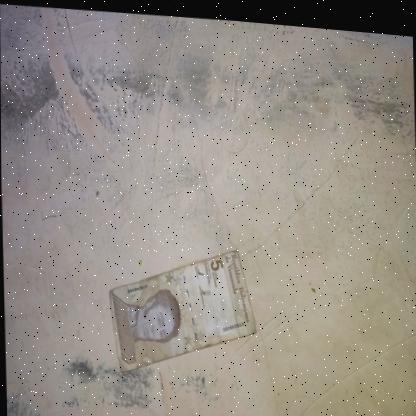five-front-vef: (106, 235, 257, 380)
